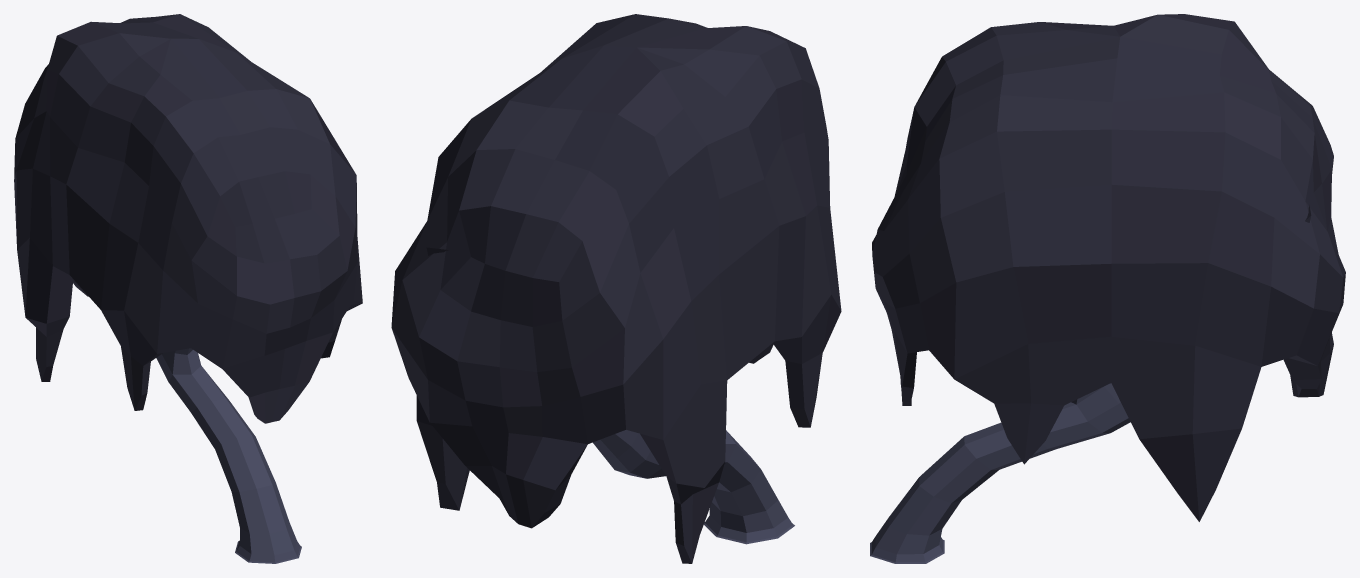
The model's file is Spoky_Tree_2.fbx.
3 renders of one model, left to right at view 1: azimuth 30°, elevation 25°; view 2: azimuth 150°, elevation 25°; view 3: azimuth 270°, elevation 25°, orthographic. The views are drawn at different scales.
Parts seen in each view (by area): view 1: Spoky_Tree_2; view 2: Spoky_Tree_2; view 3: Spoky_Tree_2.
Boxes of the visible parts, x1,y1,x2,y2 form: Spoky_Tree_2: [14, 14, 362, 563]; Spoky_Tree_2: [391, 14, 841, 563]; Spoky_Tree_2: [870, 14, 1345, 563].
Size of the model in its own units: 9.33 by 16.65 by 14.05.
